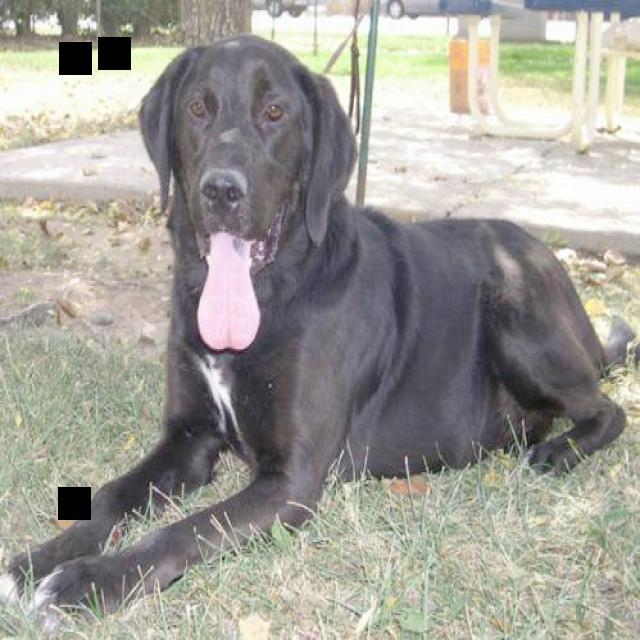adult_dog: (1, 32, 632, 637)
